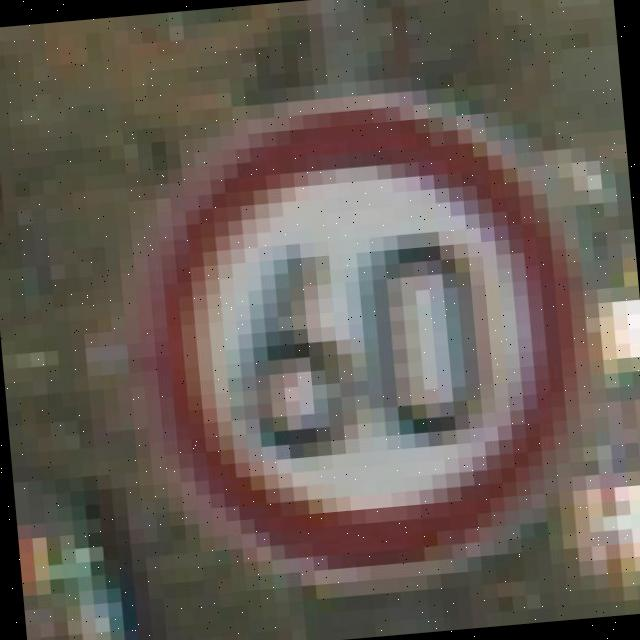Ograniczenie predkosci do 60: (135, 83, 580, 588)
